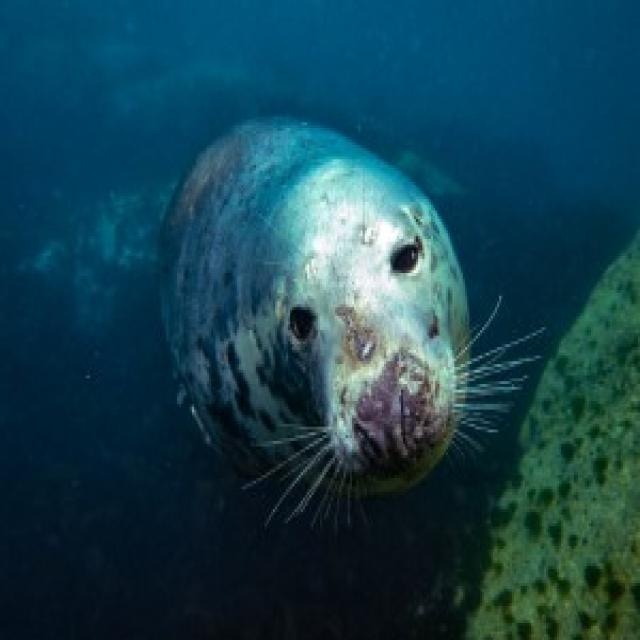Seal: (111, 75, 480, 509)
